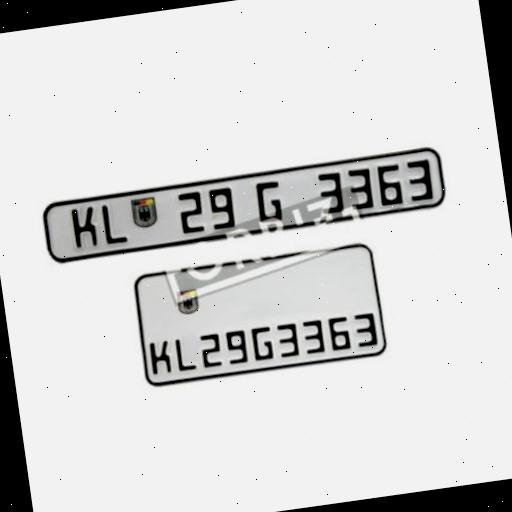number plate: (39, 146, 452, 266), (132, 240, 390, 392)
